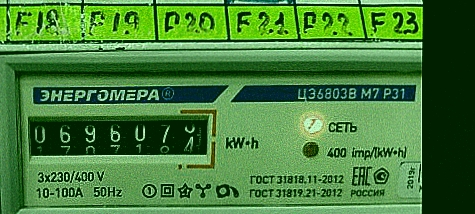0: (132, 120, 147, 142), (32, 122, 46, 143)
4: (182, 133, 195, 154)
6: (57, 121, 71, 142), (107, 122, 121, 142)
7: (157, 122, 172, 143)
9: (82, 121, 95, 142)
screen: (15, 105, 221, 165)
